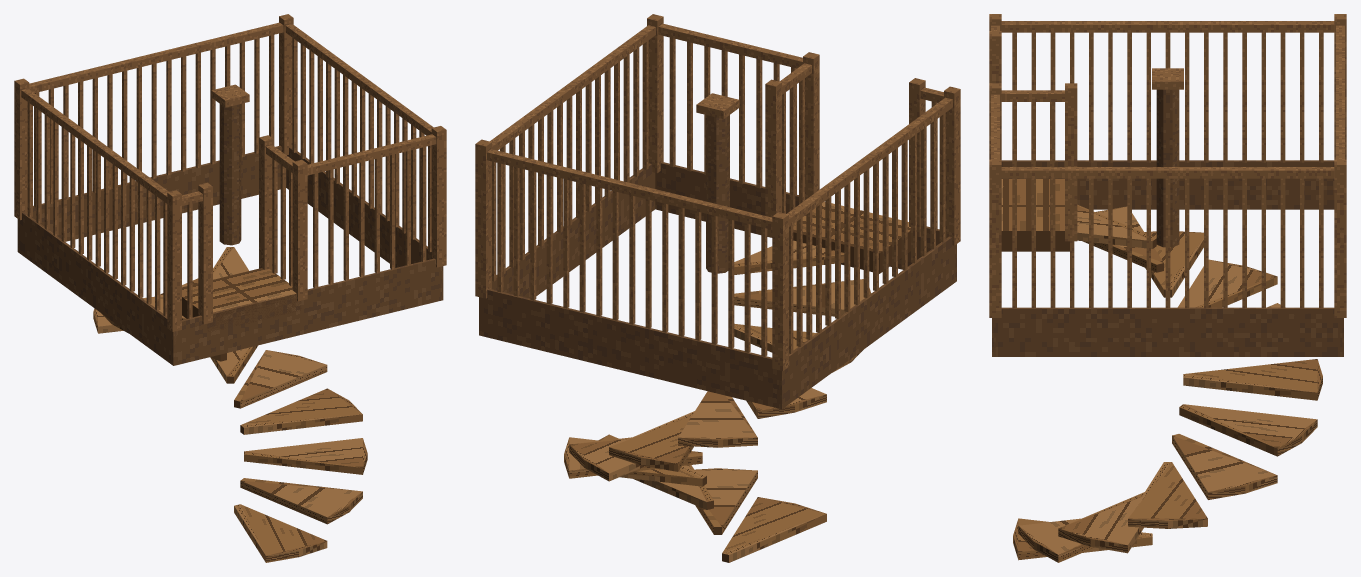
File: t_stairs_down_2x2.glb
3 renders of one model, left to right at view 1: azimuth 30°, elevation 25°; view 2: azimuth 150°, elevation 25°; view 3: azimuth 270°, elevation 25°, orthographic. The views are drawn at different scales.
Visible parts, largest first — view 1: block_lining-s, block_lining-w, block_lining-n, block_landing, block_lining-e, block_pole-top, block_treadd2, block_treadd3, block_treadd1, block_rr-hand0, block_treadd4, block_treadd0 (+62 smaller); view 2: block_lining-n, block_lining-w, block_lining-e, block_rr-hand0, block_lining-s, block_treadd0, block_pole-top, block_treadd7, block_treadd6, block_rr-post0-0.98,-0.98, block_rr-hand2, block_rr-post00.98,-0.98 (+70 smaller); view 3: block_lining-e, block_lining-w, block_rr-hand1, block_rr-hand2, block_treadd6, block_landing, block_treadd5, block_treadd4, block_treadd3, block_pole-top, block_treadd2, block_treadd8 (+43 smaller).
Part boxes in pixels (x1,y1,x2,y2): block_lining-s: [172, 258, 443, 365]; block_lining-w: [17, 212, 176, 365]; block_lining-n: [17, 145, 286, 252]; block_landing: [182, 268, 301, 331]; block_lining-e: [286, 147, 443, 300]; block_pole-top: [219, 104, 241, 245]; block_treadd2: [244, 438, 367, 474]; block_treadd3: [240, 388, 362, 434]; block_treadd1: [240, 478, 362, 524]; block_rr-hand0: [29, 22, 283, 92]; block_treadd4: [234, 350, 327, 408]; block_treadd0: [234, 504, 327, 562]; block_lining-n: [479, 288, 783, 409]; block_lining-w: [779, 236, 955, 408]; block_lining-e: [479, 163, 655, 334]; block_rr-hand0: [487, 149, 772, 229]; block_lining-s: [655, 162, 956, 282]; block_treadd0: [722, 497, 826, 562]; block_pole-top: [706, 115, 729, 273]; block_treadd7: [678, 391, 757, 447]; block_treadd6: [609, 411, 694, 471]; block_rr-post0-0.98,-0.98: [772, 212, 788, 370]; block_rr-hand2: [787, 97, 952, 226]; block_rr-post00.98,-0.98: [475, 139, 491, 298]; block_lining-e: [992, 307, 1343, 356]; block_lining-w: [1001, 160, 1334, 209]; block_rr-hand1: [1001, 167, 1334, 178]; block_rr-hand2: [1001, 21, 1334, 32]; block_treadd6: [1183, 359, 1322, 400]; block_landing: [1001, 179, 1069, 251]; block_treadd5: [1179, 404, 1317, 456]; block_treadd4: [1172, 434, 1277, 499]; block_treadd3: [1128, 462, 1207, 528]; block_pole-top: [1156, 89, 1179, 247]; block_treadd2: [1058, 492, 1144, 553]; block_treadd8: [1177, 259, 1277, 307].
Bounding box in the file's own units: 2.03 × 2.94 × 2.03.
1 material, 1 textured.
